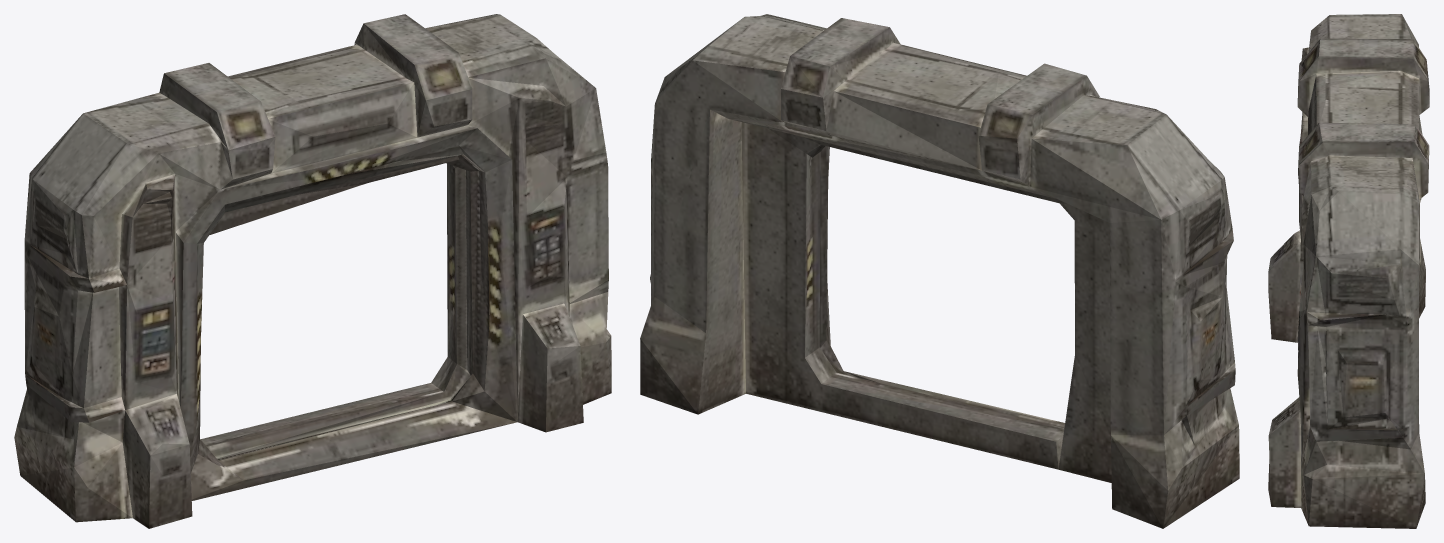
The model's file is struct.gate.glb.
3 renders of one model, left to right at view 1: azimuth 30°, elevation 25°; view 2: azimuth 150°, elevation 25°; view 3: azimuth 270°, elevation 25°, orthographic. The views are drawn at different scales.
Visible parts, largest first — view 1: body; view 2: body; view 3: body.
Part boxes in pixels (box(x1,y1,x2,y2)): body: box(14, 14, 611, 528); body: box(640, 14, 1239, 528); body: box(1268, 14, 1429, 528).
Size of the model in its own units: 2.7 by 1.8 by 0.8052.
Materials: 1 (1 with a texture image).
